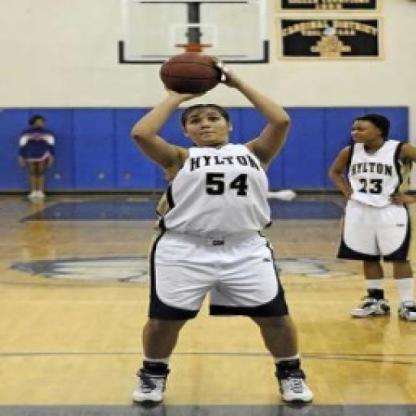basketball: (156, 46, 232, 100)
